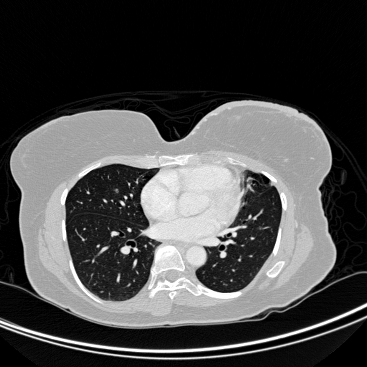nodule: (114, 189, 118, 193)
